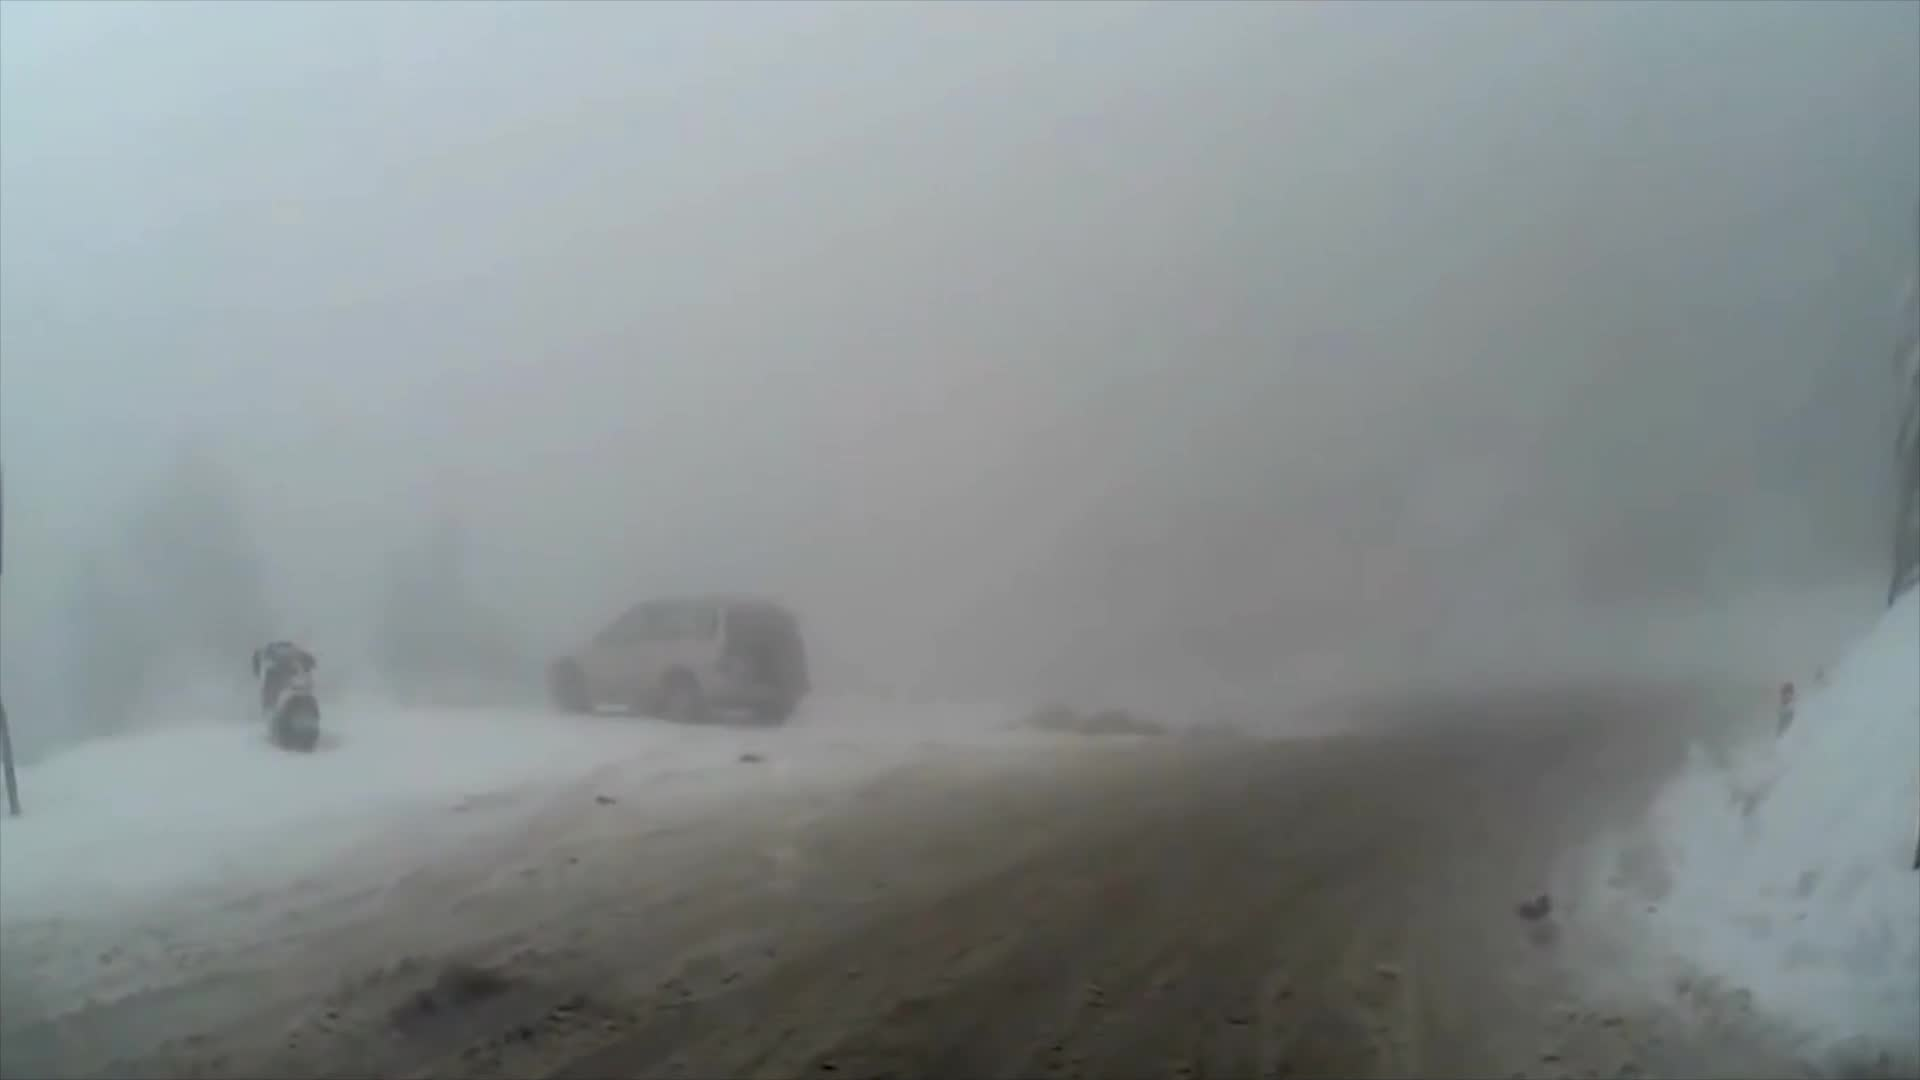vehicle: (543, 589, 804, 724)
